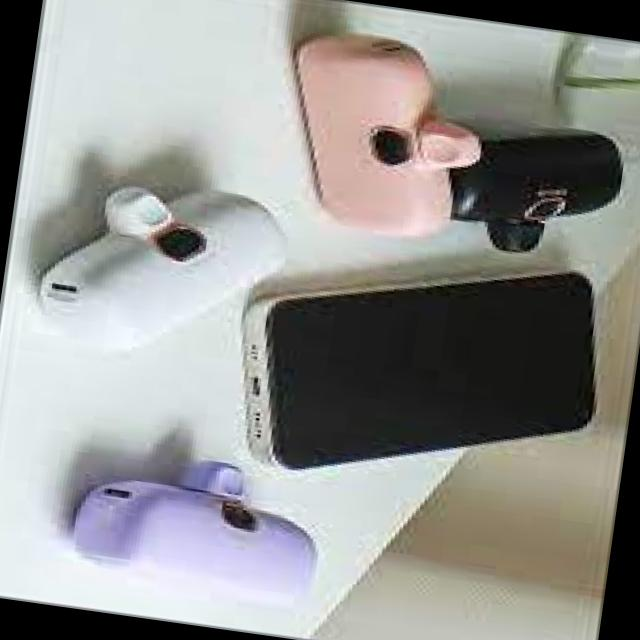portable-charger: (18, 170, 302, 382), (264, 28, 492, 250), (47, 436, 332, 608), (418, 106, 632, 268)
